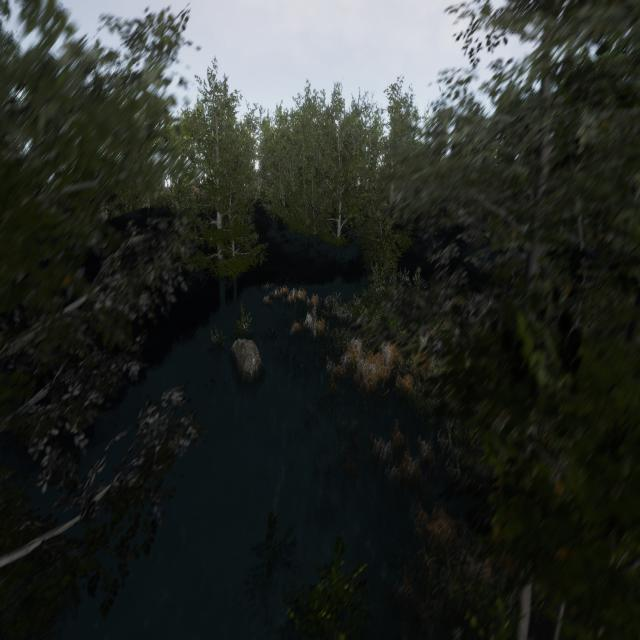Human: (304, 306, 325, 342)
